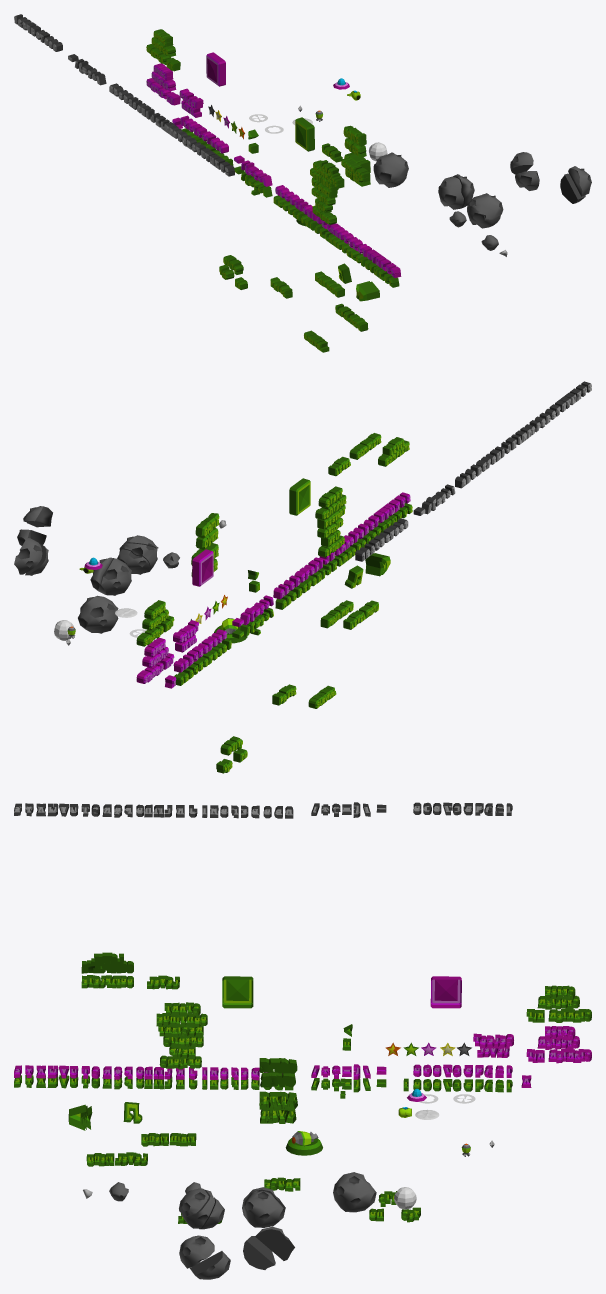
The model's file is Space Shooter MDL.fbx.
The picture shows the model from 3 angles, top to bottom: view 1: azimuth 30°, elevation 25°; view 2: azimuth 150°, elevation 25°; view 3: azimuth 270°, elevation 25°; orthographic projection. The views are drawn at different scales.
Visible parts, largest first — view 1: AsteroidMesh, AsteroidFrag22, GameOverMesh3, LevelBoxMesh1, LevelBoxMesh2, AsteroidFrag31, LevelCompleteTextMesh, AsteroidFrag211; view 2: AsteroidMesh, AsteroidFrag22, AsteroidFrag221, LevelBoxMesh1, LevelBoxMesh2, GameOverMesh3, LevelCompleteTextMesh; view 3: AsteroidMesh, AsteroidFrag21, GameOverMesh, GameOverMesh3, LevelBoxMesh1, LevelBoxMesh2, LevelCompleteTextMesh, AsteroidFrag211, StarterKitTextMesh1, StarterKitTextMesh, LevelMenuTextMesh, AsteroidFrag222 (+6 smaller).
Part boxes in pixels (x1,y1,x2,y2): AsteroidMesh: [373, 152, 408, 187]; AsteroidFrag22: [438, 176, 463, 209]; GameOverMesh3: [343, 125, 366, 158]; LevelBoxMesh1: [295, 117, 314, 151]; LevelBoxMesh2: [206, 52, 225, 86]; AsteroidFrag31: [475, 193, 503, 219]; LevelCompleteTextMesh: [315, 160, 344, 188]; AsteroidFrag211: [568, 166, 591, 196]; AsteroidMesh: [78, 595, 118, 633]; AsteroidFrag22: [101, 558, 131, 595]; AsteroidFrag221: [14, 537, 42, 574]; LevelBoxMesh1: [289, 478, 310, 515]; LevelBoxMesh2: [192, 549, 213, 586]; GameOverMesh3: [195, 513, 219, 549]; LevelCompleteTextMesh: [378, 437, 409, 466]; AsteroidMesh: [333, 1172, 376, 1212]; AsteroidFrag21: [242, 1190, 285, 1227]; GameOverMesh: [259, 1091, 297, 1123]; GameOverMesh3: [259, 1058, 297, 1087]; LevelBoxMesh1: [222, 976, 253, 1008]; LevelBoxMesh2: [430, 976, 461, 1008]; LevelCompleteTextMesh: [81, 952, 133, 973]; AsteroidFrag211: [179, 1235, 214, 1268]; StarterKitTextMesh1: [526, 1049, 591, 1063]; StarterKitTextMesh: [526, 1009, 591, 1022]; LevelMenuTextMesh: [86, 1152, 147, 1166]; AsteroidFrag222: [243, 1236, 275, 1269].
Bounding box in the file's own units: 1239 × 734 × 1189.
